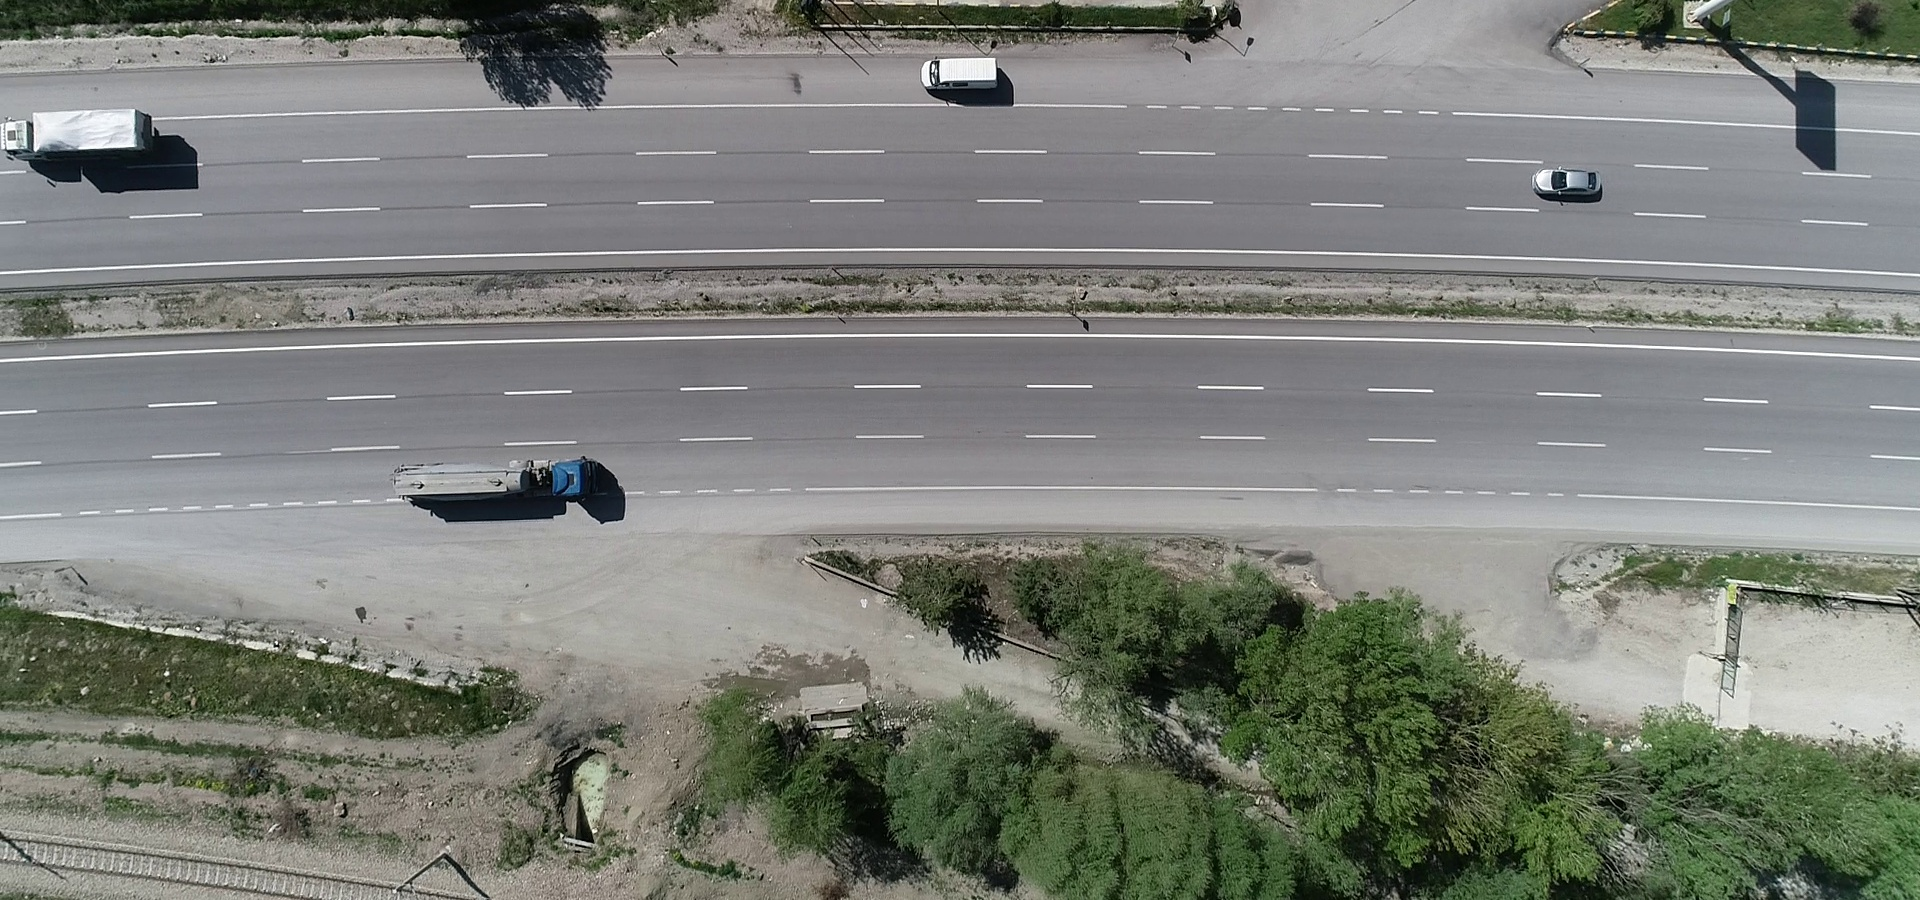arac: (387, 454, 602, 504), (1, 103, 162, 167), (917, 53, 1016, 96), (1524, 163, 1616, 204)
